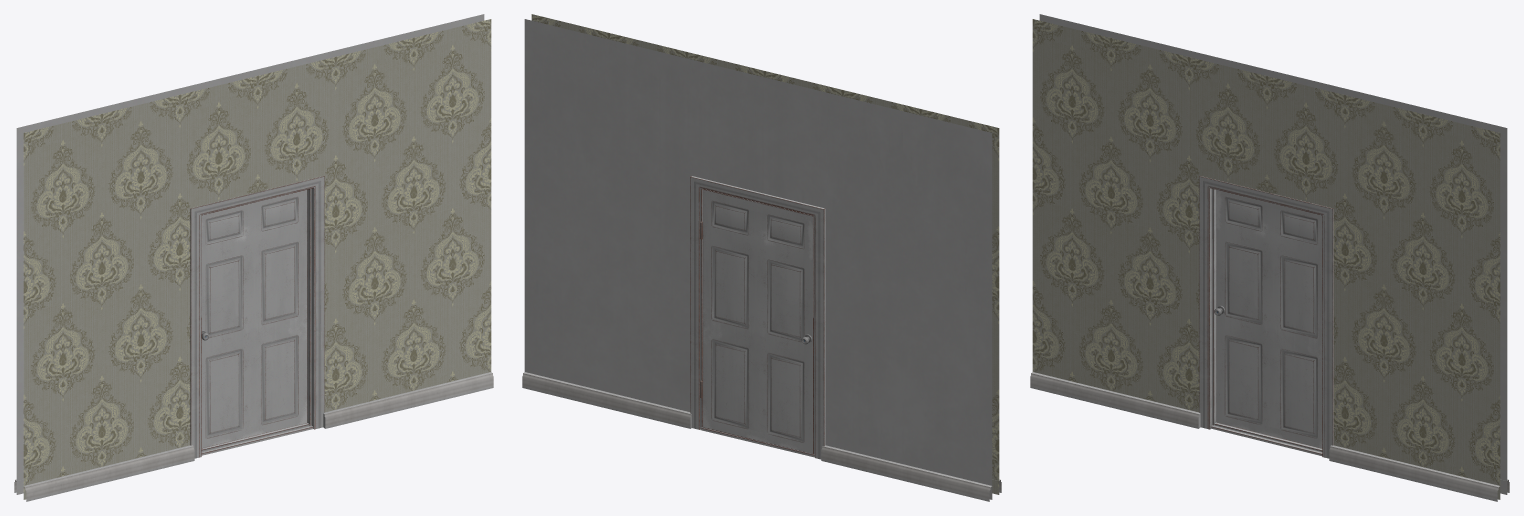
File: Inner_Wall_Door_01.fbx
The picture shows the model from 3 angles, left to right: view 1: azimuth 30°, elevation 25°; view 2: azimuth 150°, elevation 25°; view 3: azimuth 330°, elevation 25°; orthographic projection.
Parts seen in each view (by area): view 1: Inner_Wall_Door_01_LOD0, Inner_Door_01_LOD0; view 2: Inner_Wall_Door_01_LOD0, Inner_Door_01_LOD0; view 3: Inner_Wall_Door_01_LOD0, Inner_Door_01_LOD0.
Part boxes in pixels (x1,y1,x2,y2): Inner_Wall_Door_01_LOD0: [14, 14, 493, 501]; Inner_Door_01_LOD0: [201, 190, 307, 447]; Inner_Wall_Door_01_LOD0: [522, 14, 1001, 501]; Inner_Door_01_LOD0: [702, 189, 813, 454]; Inner_Wall_Door_01_LOD0: [1030, 14, 1509, 501]; Inner_Door_01_LOD0: [1214, 189, 1322, 448].
Size of what is drawn, in the model's own units: 400 by 300 by 20.96.
